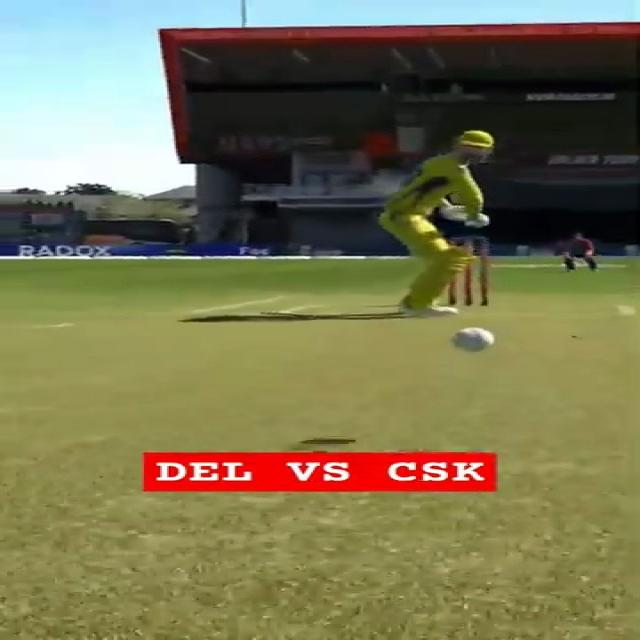ball: (446, 323, 498, 354)
